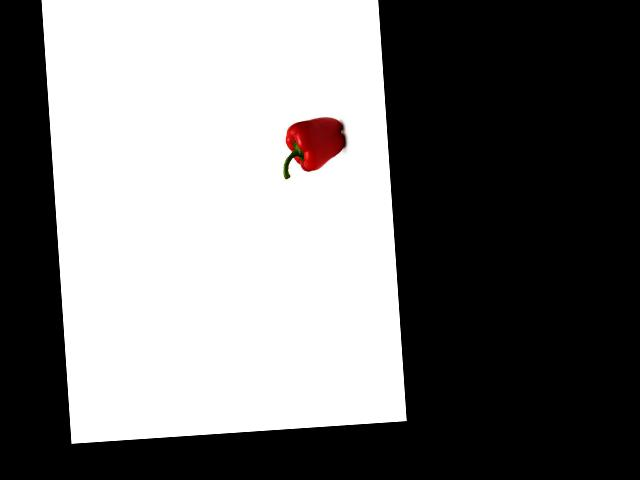bell_pepper: (276, 112, 351, 181)
